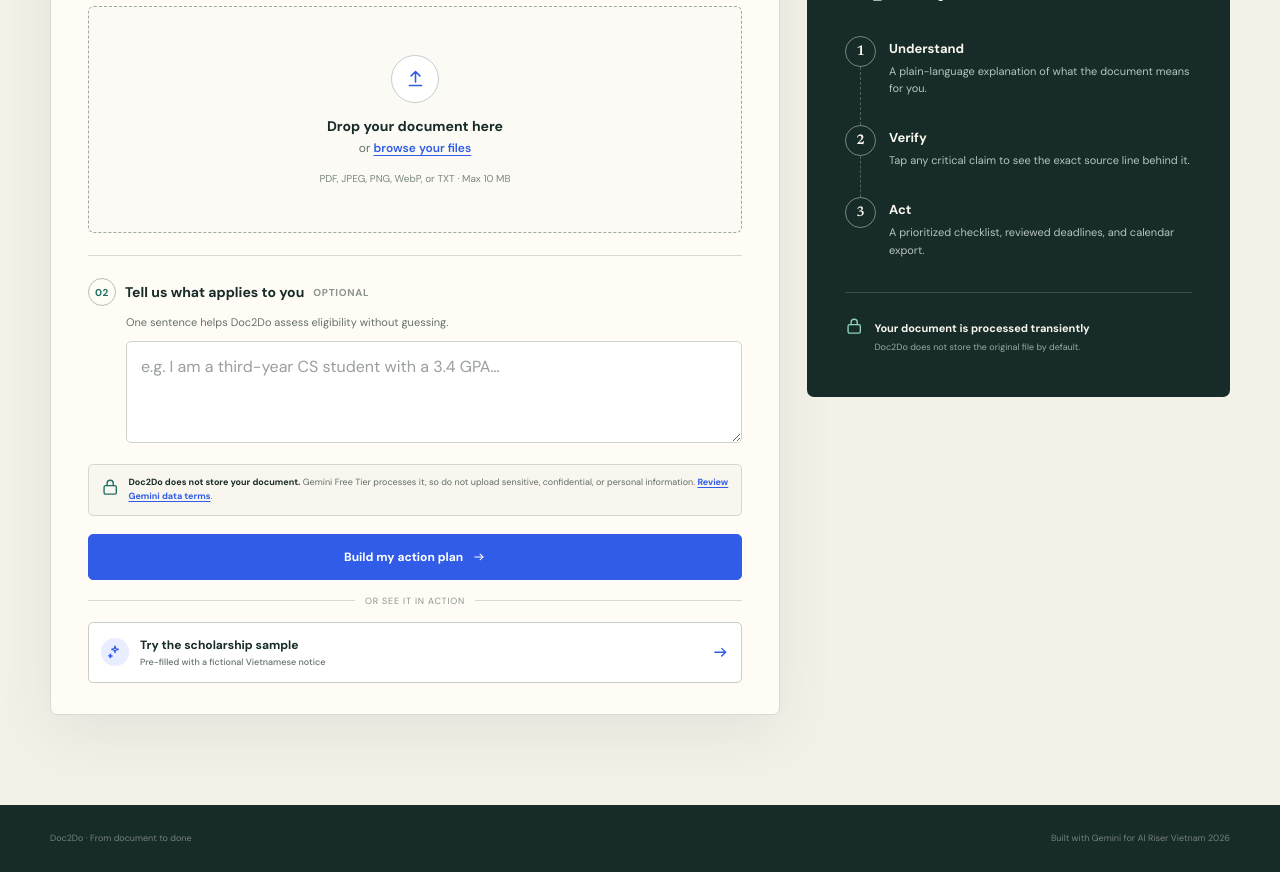
Test: Doc2Do frontend › shows a recoverable error when no input is provided
The image size is (1280, 872).
(page scrolled)
Step 1. Click the button "Build my action plan" → (415, 557), box [88,534,742,580]
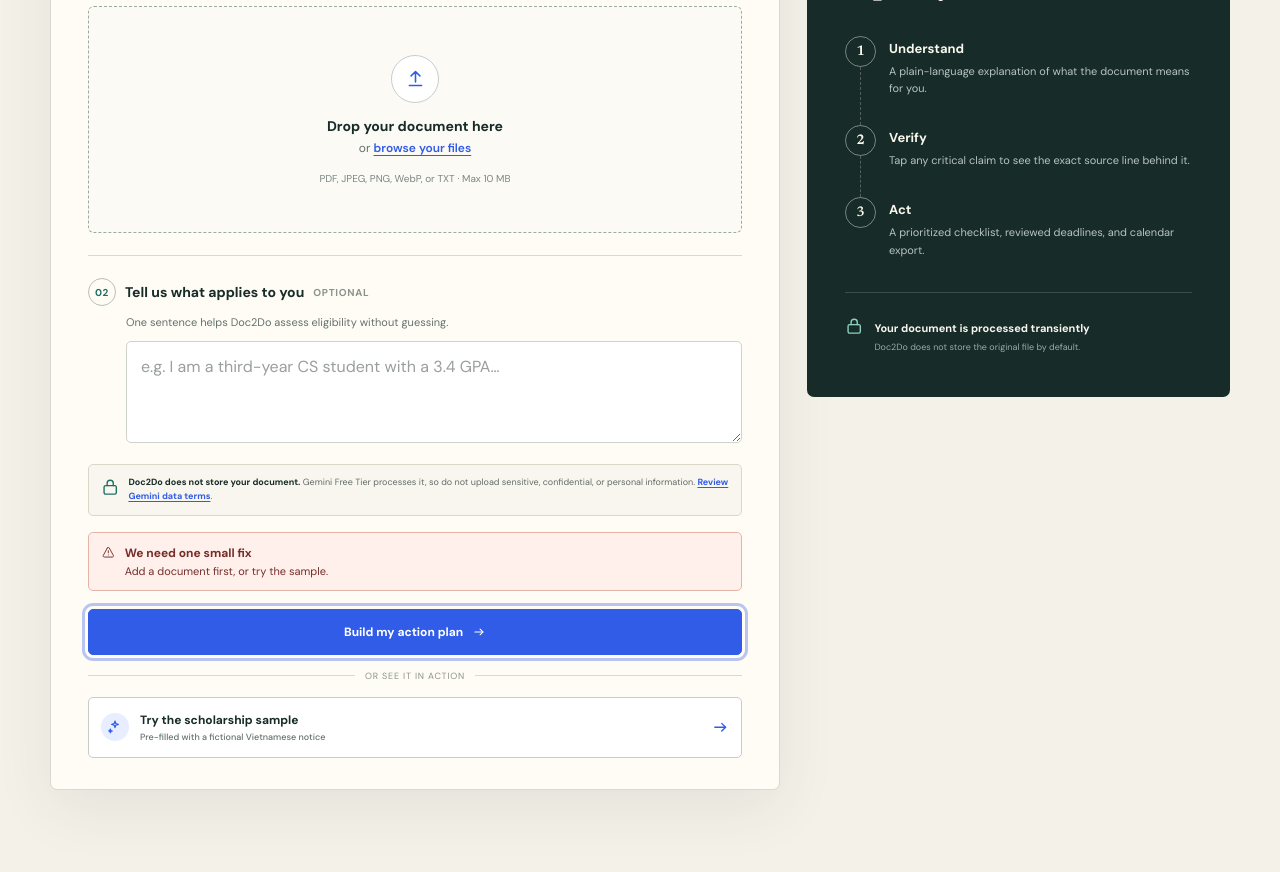
Expected: the button "Try the scholarship sample" is shown, [88,697,742,758]
Now the message shows "Add a document first", box [125,564,328,578]
